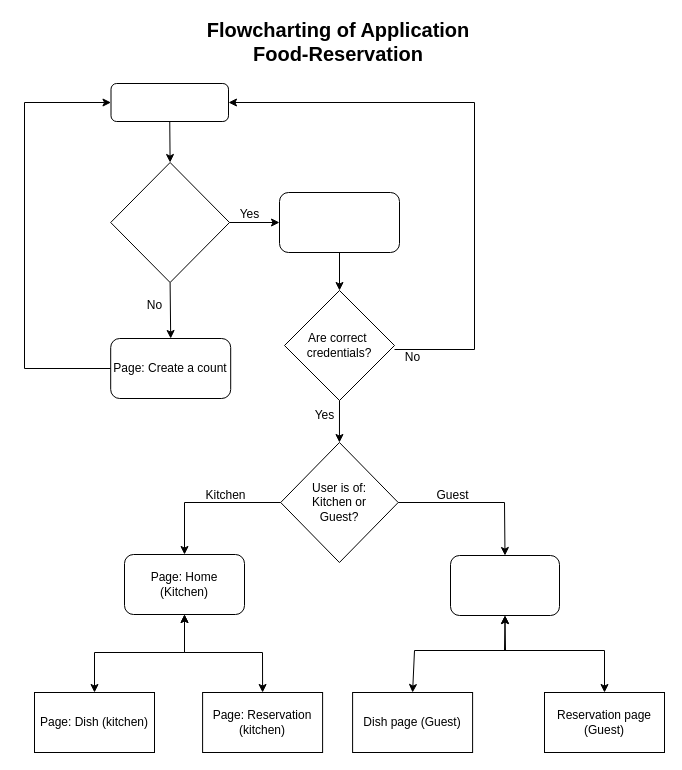
The diagram is 682 pixels wide and 770 high, and some of its shapes have lost their labels. Each missing label, with the centre of its shape:
"Enter credenciales" goes at [339,222].
"have credentials?" goes at [170,222].
"Page: Home (Guest)" goes at [505,585].
"Page: Index- Login" goes at [169,102].
